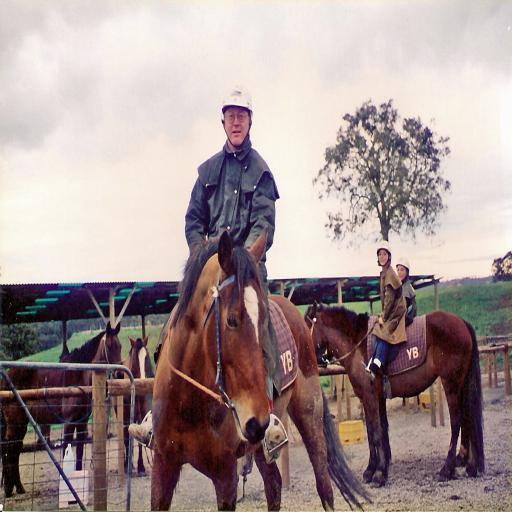Horse: (150, 226, 376, 512), (303, 298, 488, 491), (0, 322, 126, 496), (104, 335, 149, 477)
